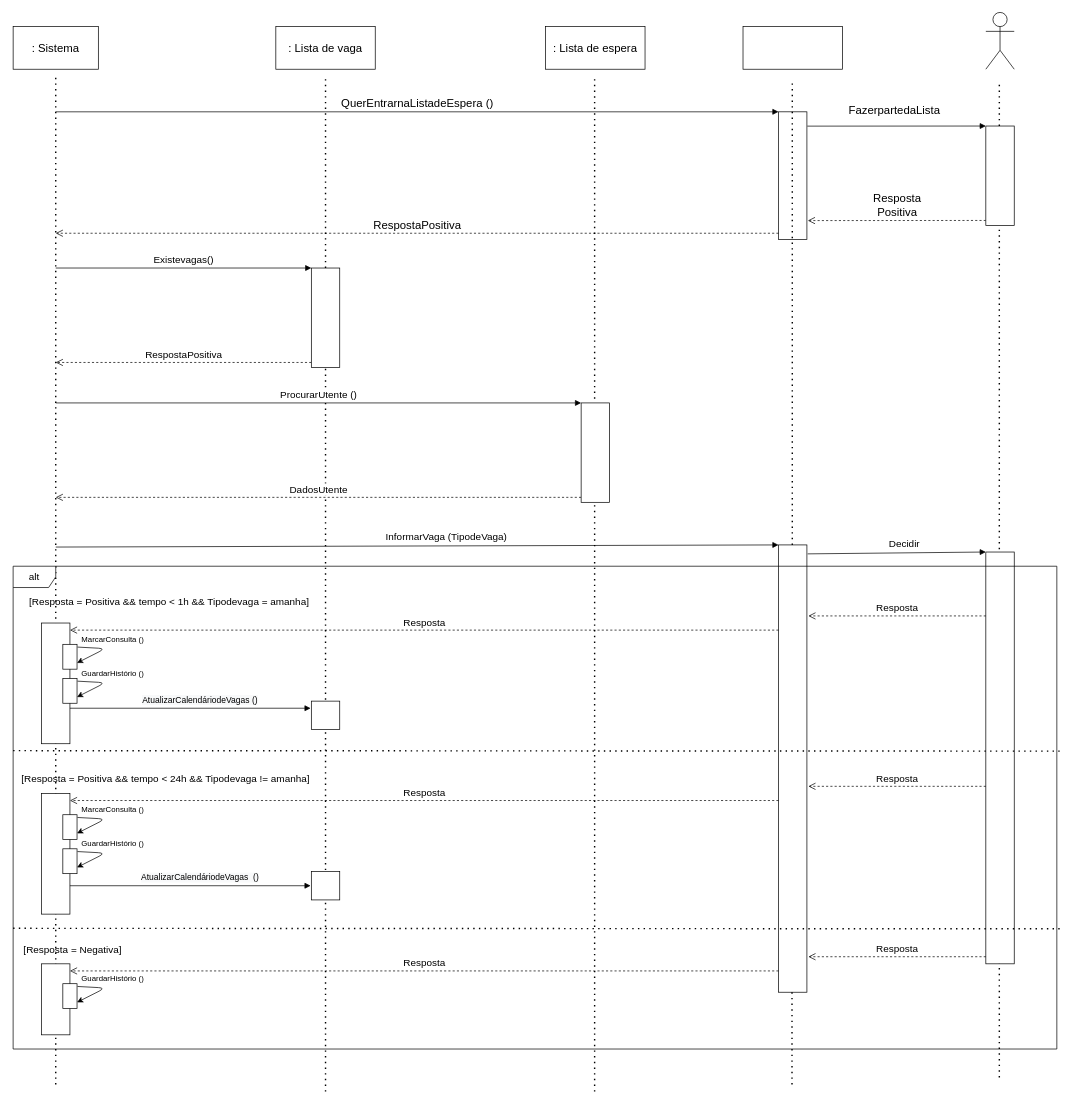
Some shapes in this 1076 by 1105 pixel diagram are drawn without their labels. The centre of each missing label's shape, as x and y in pixels:
: Formulário: (x=792, y=47)
Utente: (x=999, y=40)
